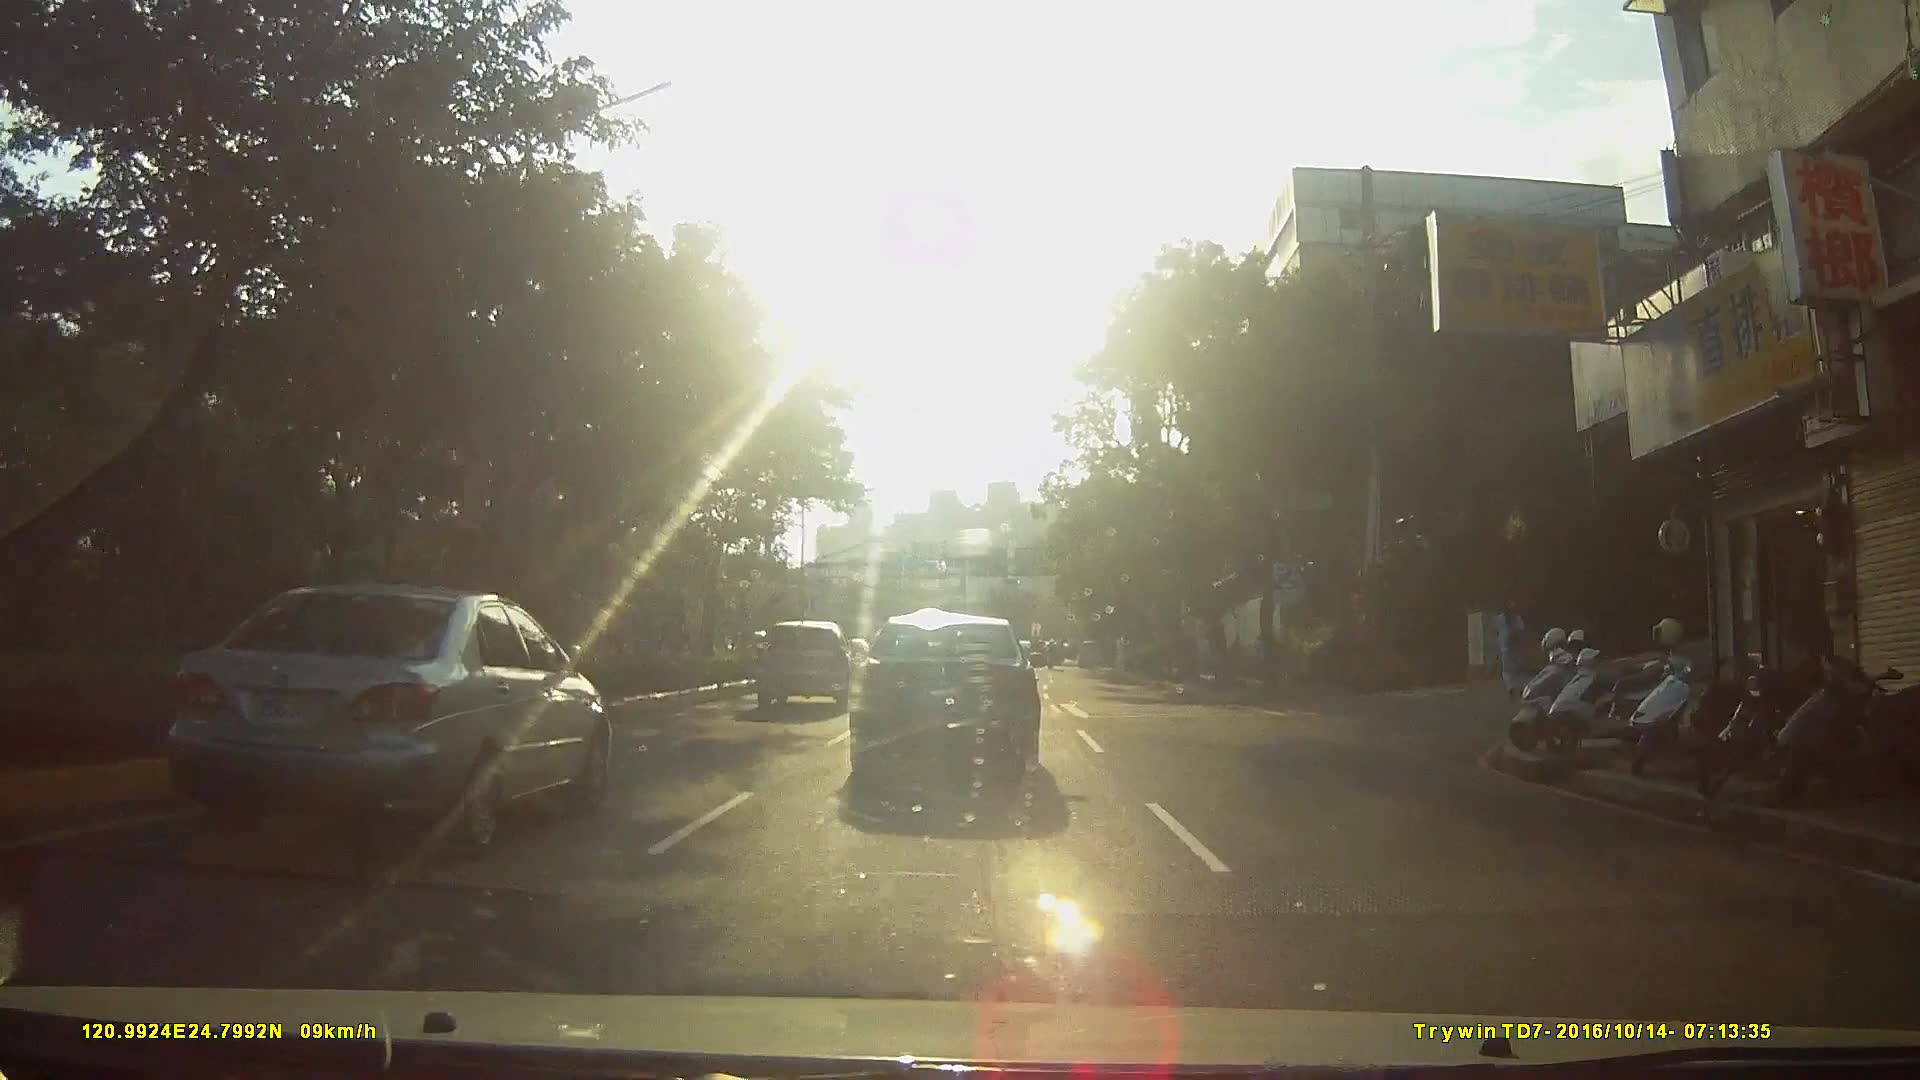pedestrian: (1494, 593, 1542, 699)
vehicle: (135, 582, 624, 867), (853, 612, 1062, 793), (754, 619, 862, 709), (1076, 639, 1108, 671)
